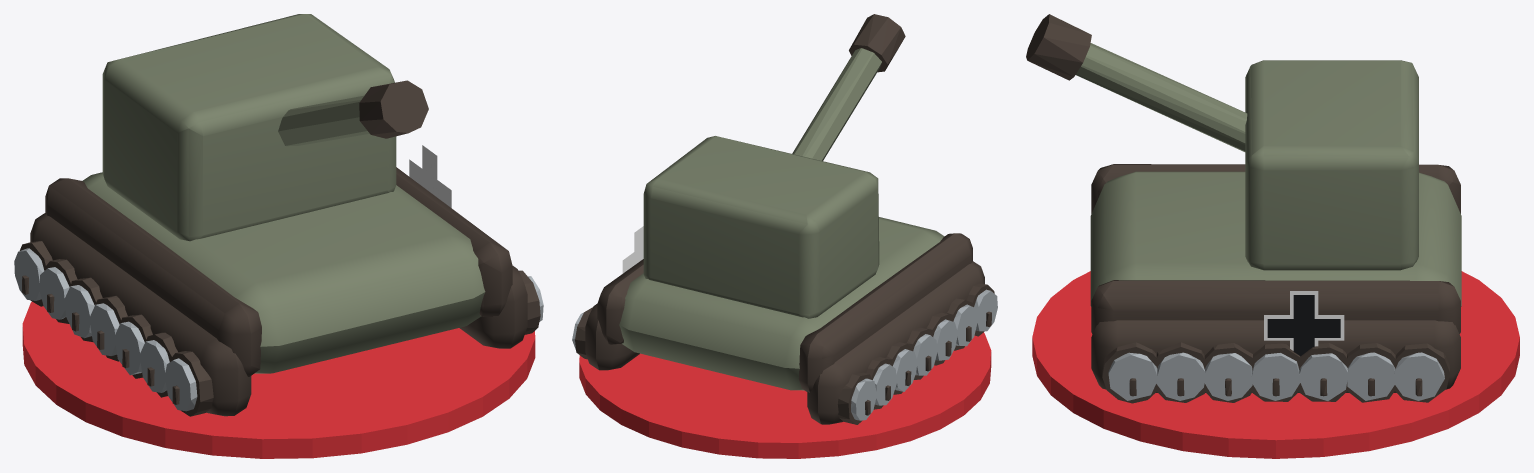
File: germany_artillery_lod0.glb
3 renders of one model, left to right at view 1: azimuth 30°, elevation 25°; view 2: azimuth 150°, elevation 25°; view 3: azimuth 270°, elevation 25°, orthographic. The views are drawn at different scales.
Visible parts, largest first — view 1: body_hull, base_pedestal; view 2: body_hull, base_pedestal; view 3: body_hull, base_pedestal.
Boxes of the visible parts, <box> form: body_hull: <box>14,14,543,416</box>; base_pedestal: <box>22,301,535,458</box>; body_hull: <box>572,14,997,424</box>; base_pedestal: <box>579,332,991,458</box>; body_hull: <box>1026,14,1461,403</box>; base_pedestal: <box>1032,271,1519,458</box>.
Size of the model in its own units: 0.7701 by 0.5885 by 0.78.
